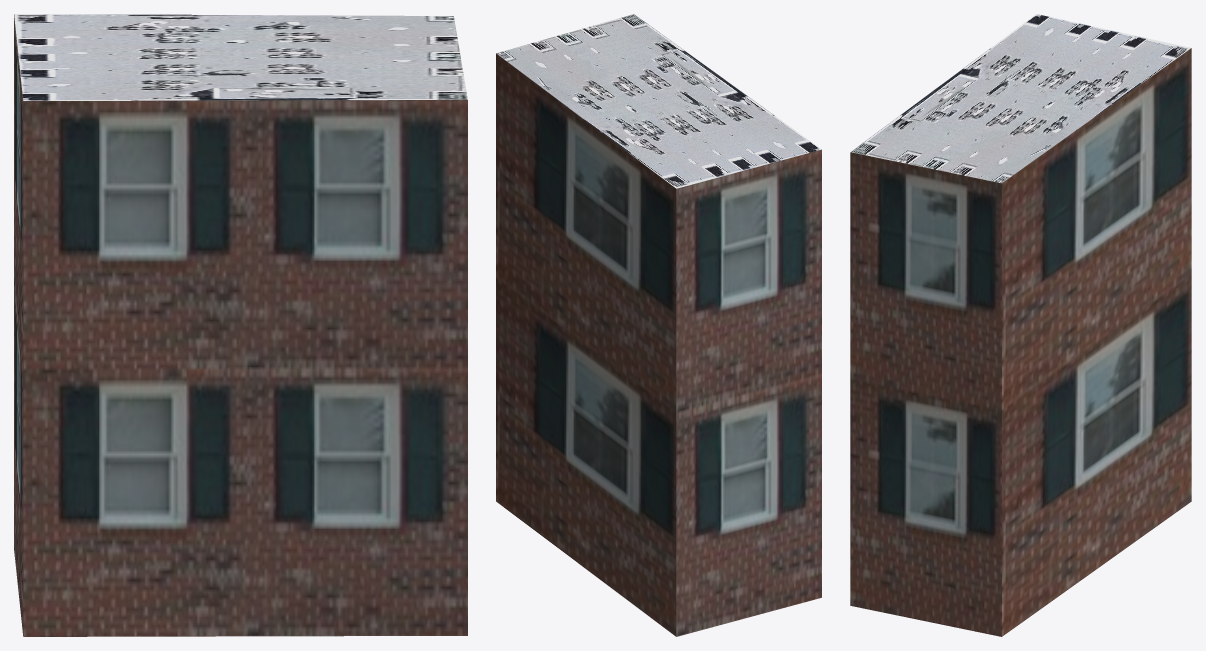
Rendered from ResTex__698.fbx.
3 renders of one model, left to right at view 1: azimuth 30°, elevation 25°; view 2: azimuth 150°, elevation 25°; view 3: azimuth 270°, elevation 25°, orthographic. The views are drawn at different scales.
Parts seen in each view (by area): view 1: CityEngineMaterial_14_m, CityEngineMaterial_m; view 2: CityEngineMaterial_14_m, CityEngineMaterial_m; view 3: CityEngineMaterial_14_m, CityEngineMaterial_m.
Boxes of the visible parts, box(x1,y1,x2,y2) form: CityEngineMaterial_14_m: box(14, 15, 467, 636); CityEngineMaterial_m: box(14, 14, 467, 100); CityEngineMaterial_14_m: box(496, 53, 821, 636); CityEngineMaterial_m: box(496, 14, 821, 188); CityEngineMaterial_14_m: box(850, 48, 1191, 636); CityEngineMaterial_m: box(851, 14, 1190, 183).
Bounding box in the file's own units: 4.81 × 6 × 4.09.
Materials: 2 (2 with a texture image).
